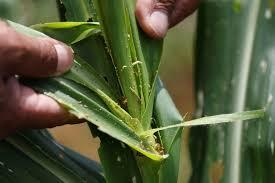fallarmy_worm: (116, 90, 132, 114)
